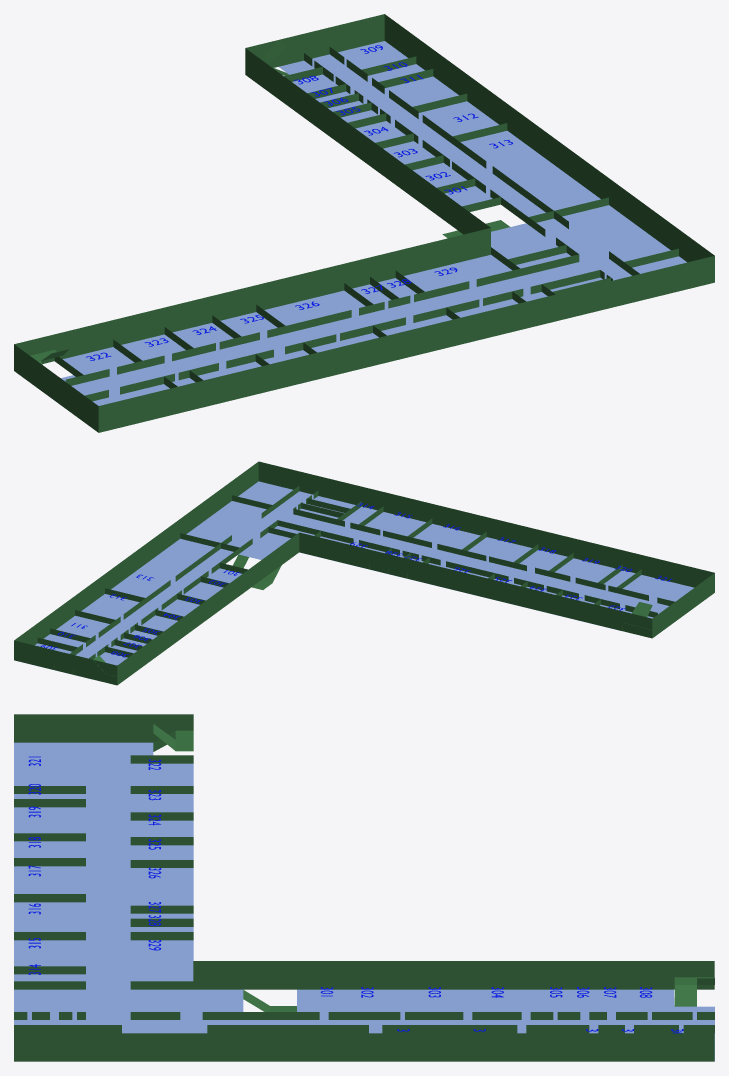
Rendered from ThirdFloor.glb.
3 views of the same model, one above another, from view 1: azimuth 30°, elevation 25°; view 2: azimuth 150°, elevation 25°; view 3: azimuth 270°, elevation 25° (orthographic). The views are drawn at different scales.
Visible parts, largest first — view 1: Outer walls, Floor, Inner wall; view 2: Outer walls, Floor, Inner wall, MainLadder; view 3: Floor, Outer walls, Inner wall, RightLadder.002, LeftLadder.
Boxes of the visible parts, x1,y1,x2,y2 form: Outer walls: (14,14,714,432); Floor: (61,41,686,405); Inner wall: (54,47,678,401); Outer walls: (14,461,714,685); Floor: (21,481,693,679); Inner wall: (37,486,674,674); MainLadder: (233,554,281,589); Floor: (14,742,714,1061); Outer walls: (14,714,714,1061); Inner wall: (14,755,714,1033); RightLadder.002: (674,977,714,1006); LeftLadder: (153,724,193,751).
Size of the model in its own units: 168 by 14 by 156.
